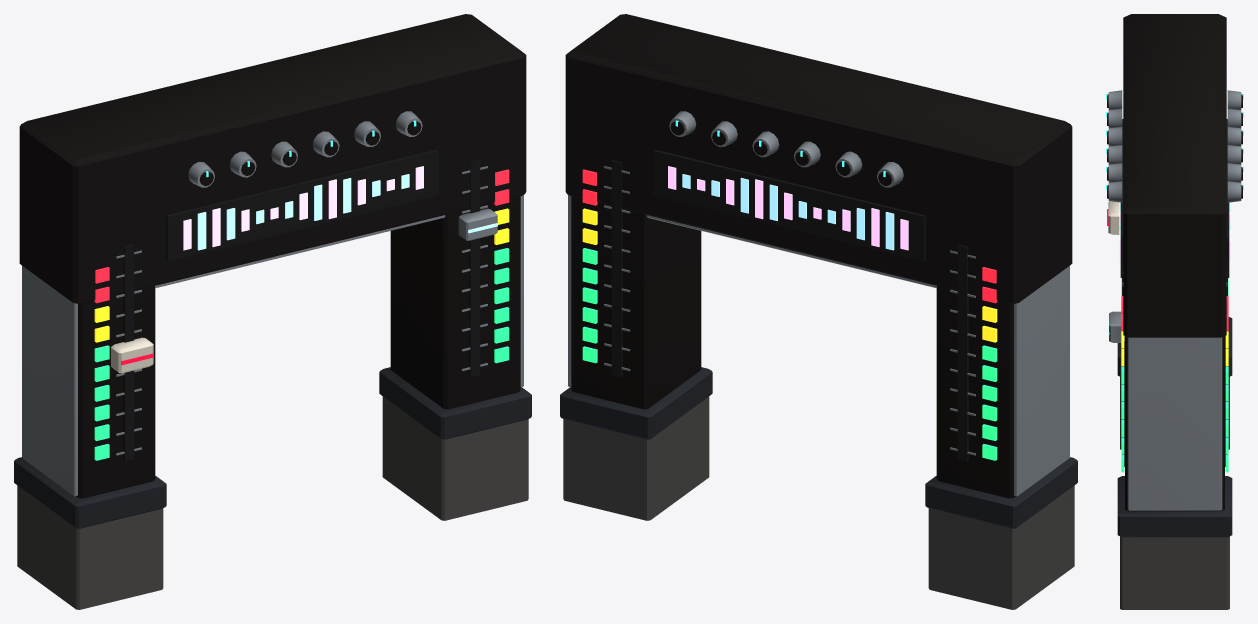
File: lmf_melodai_arch.glb
3 views of the same model, side by side, from view 1: azimuth 30°, elevation 25°; view 2: azimuth 150°, elevation 25°; view 3: azimuth 270°, elevation 25° (orthographic). The views are drawn at different scales.
Visible parts, largest first — view 1: body, fader_gesang; view 2: body; view 3: body, fader_gesang.
Part boxes in pixels (bbox=[...]): body: bbox=[14, 14, 531, 609]; fader_gesang: bbox=[111, 337, 153, 373]; body: bbox=[560, 14, 1077, 609]; body: bbox=[1106, 14, 1243, 609]; fader_gesang: bbox=[1107, 201, 1119, 234].
Bounding box in the file's own units: 16.5 × 15.4 × 4.81.
